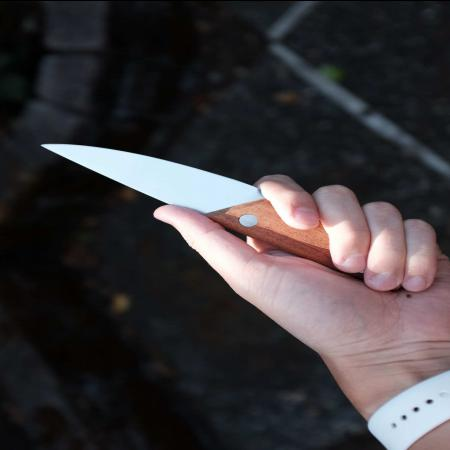long weapon: (29, 135, 372, 277)
